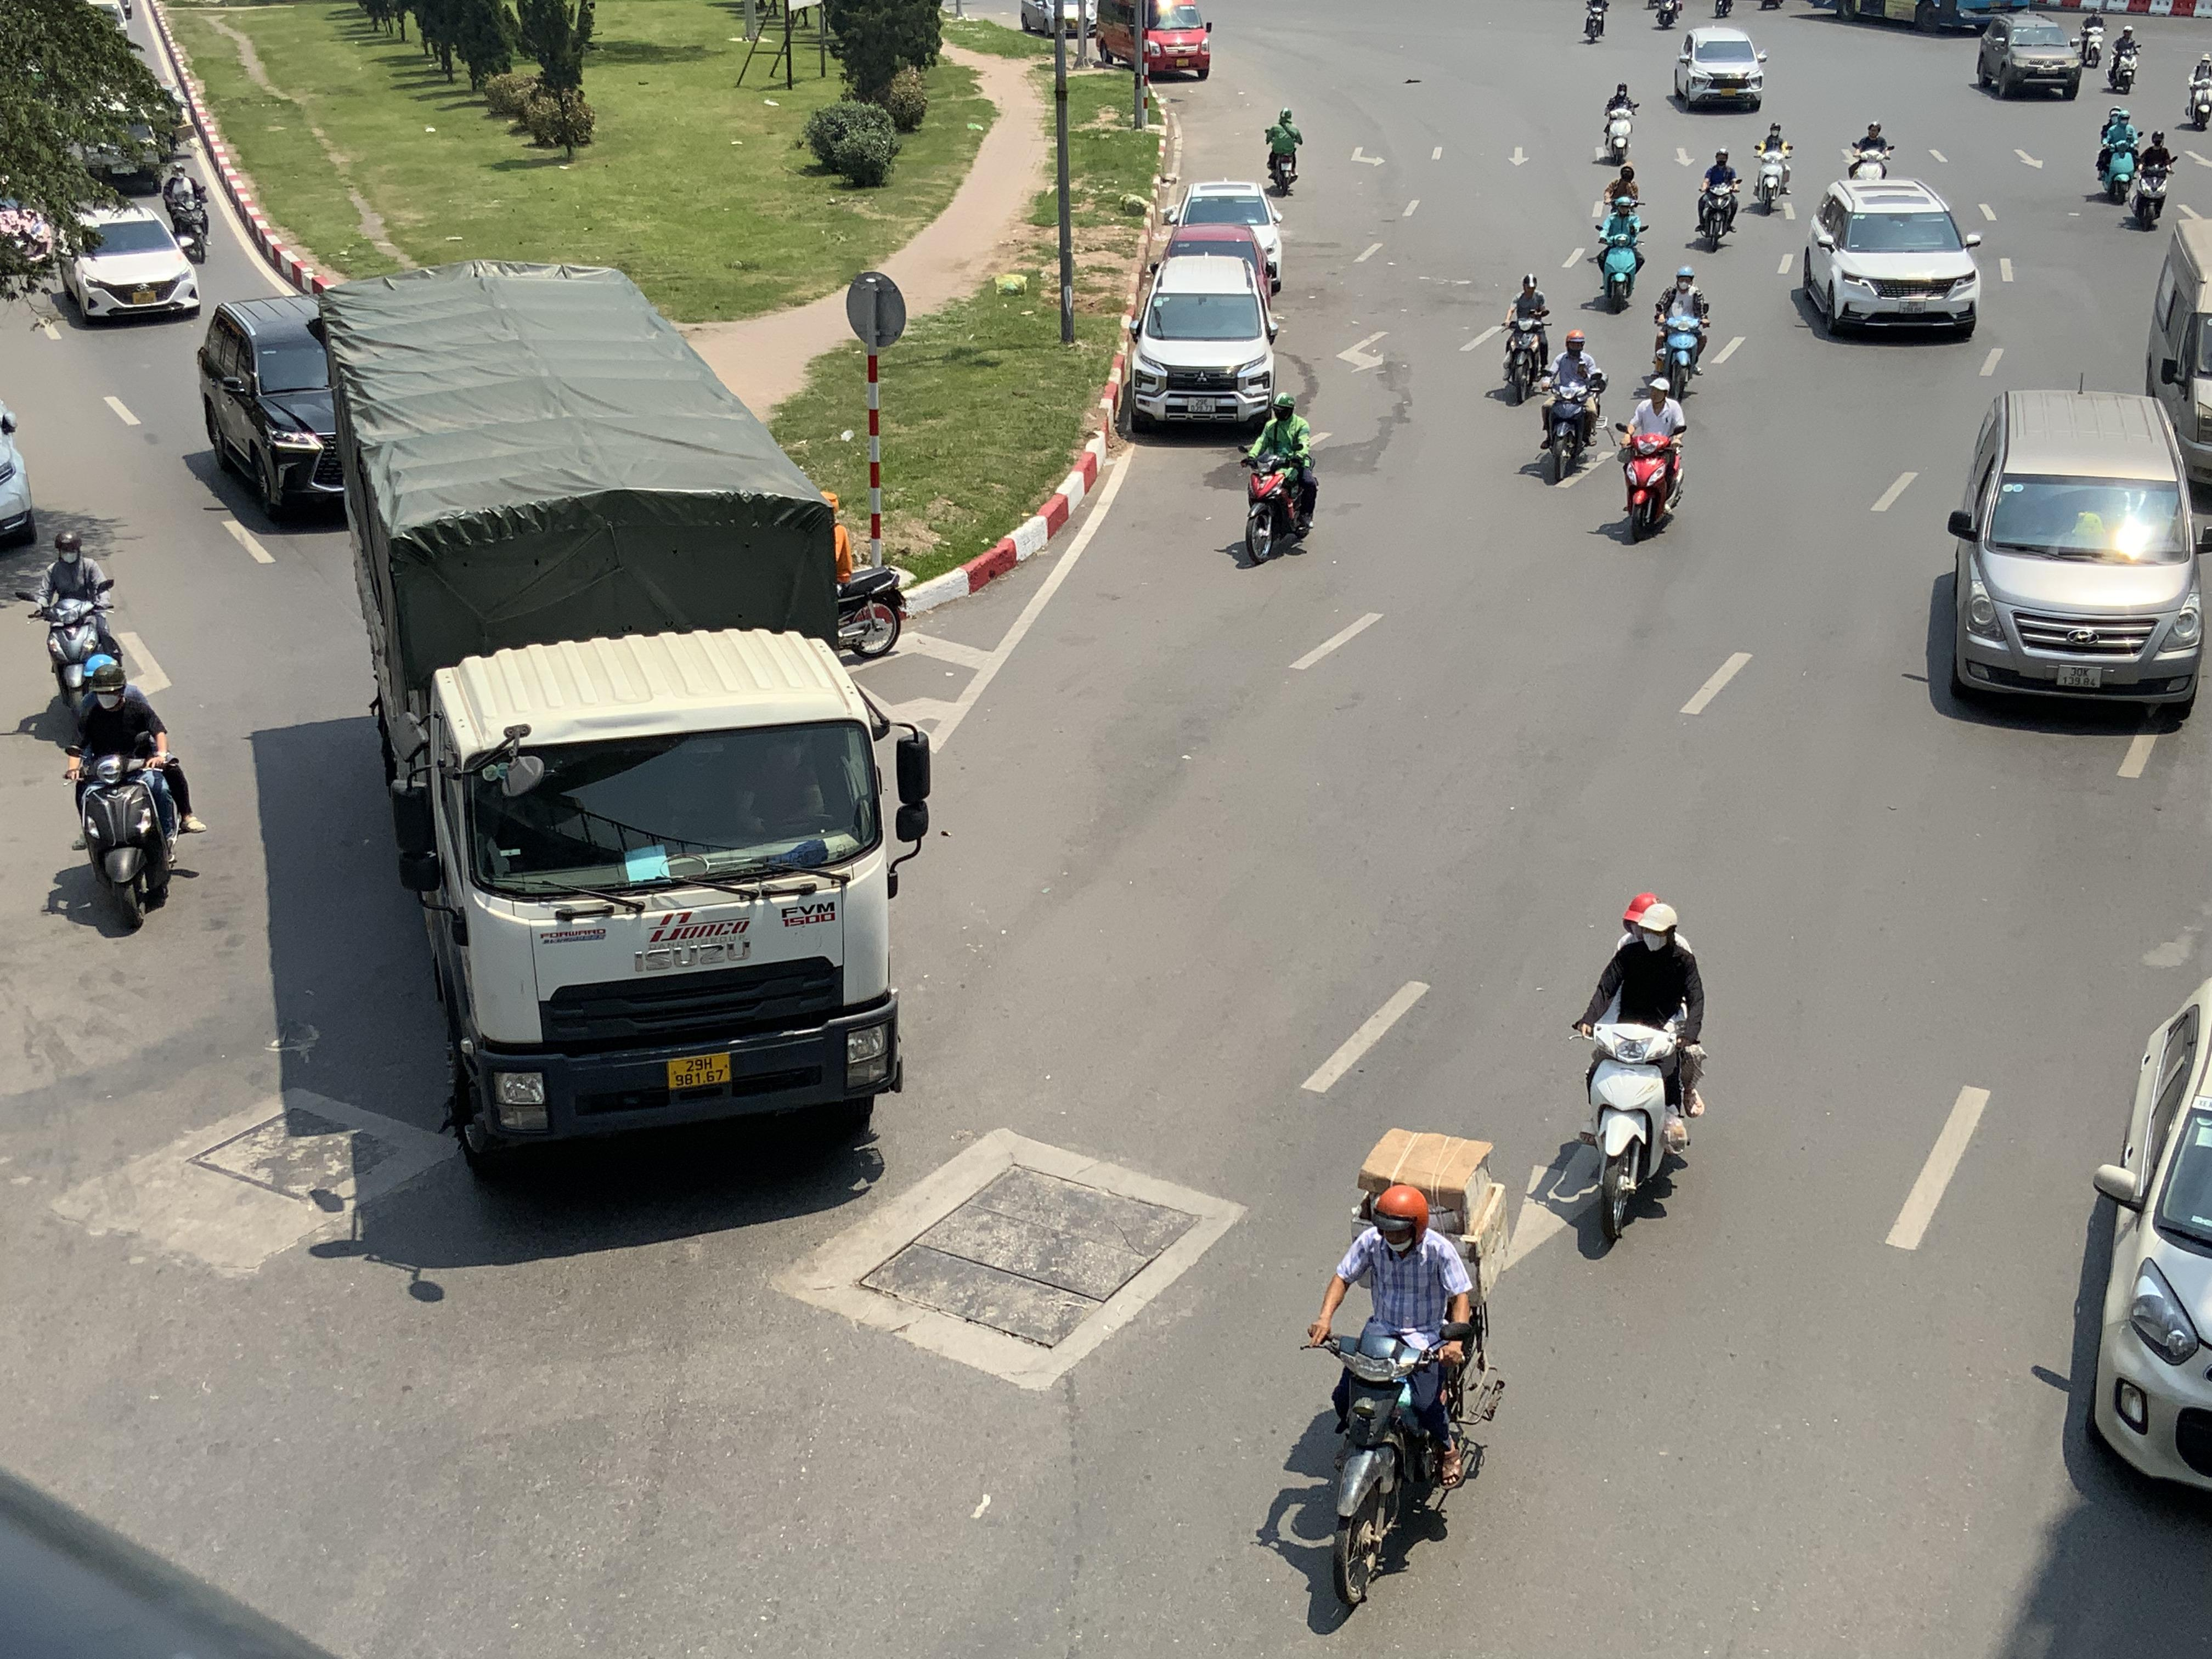BSV: (667, 1051, 732, 1089), (2057, 664, 2102, 688), (1897, 300, 1926, 315), (1188, 397, 1216, 413)
car: (1942, 383, 2210, 723), (2052, 964, 2212, 1516), (195, 293, 347, 523), (1796, 176, 1986, 342), (1122, 253, 1282, 436), (57, 204, 202, 326), (1162, 181, 1285, 296), (1089, 0, 1214, 80), (1973, 14, 2081, 99), (1669, 26, 1768, 113)
motorbike: (1256, 1129, 1503, 1633), (1555, 892, 1705, 1260), (63, 652, 195, 936), (28, 530, 124, 718), (1235, 394, 1318, 568), (834, 505, 909, 662), (1618, 373, 1686, 544), (1533, 328, 1606, 484), (1651, 267, 1712, 401), (1496, 272, 1552, 404), (1592, 193, 1648, 314), (2123, 129, 2175, 232), (158, 162, 211, 263), (1691, 146, 1740, 253), (2094, 101, 2141, 204), (1752, 119, 1796, 216), (1261, 108, 1305, 197), (1599, 78, 1639, 166), (1843, 119, 1895, 179), (2104, 21, 2141, 94), (2182, 49, 2212, 132), (2073, 7, 2106, 70), (1581, 0, 1609, 44), (1646, 0, 1683, 30), (1709, 0, 1737, 19)
truck: (324, 254, 935, 1183)
